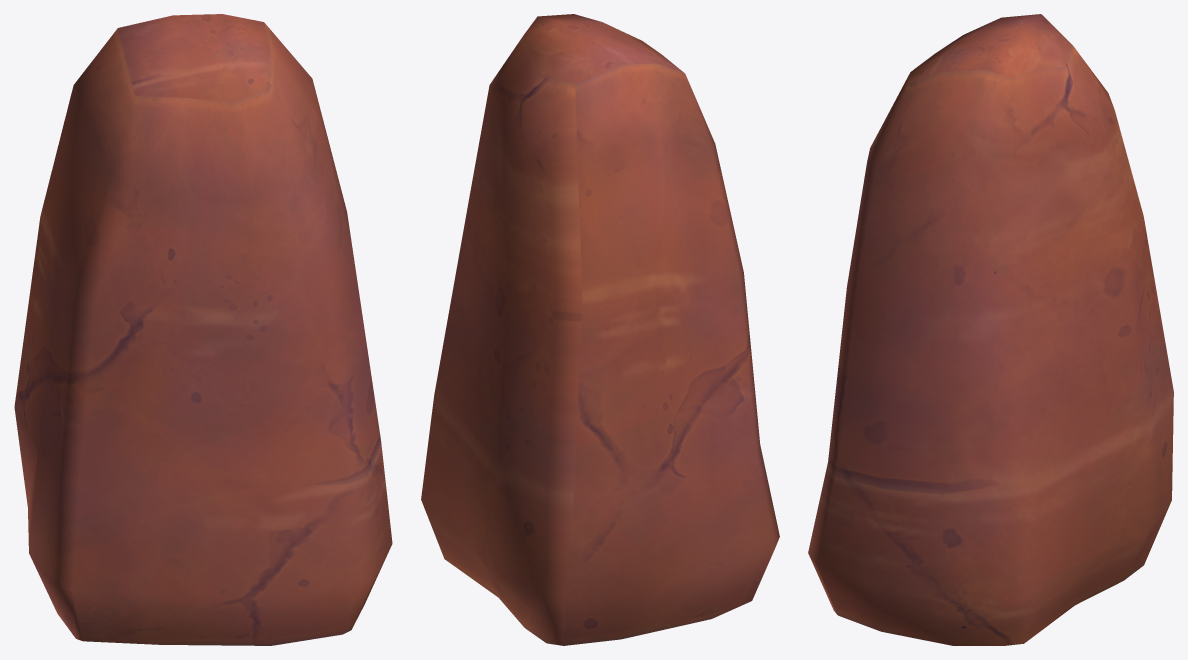
The model's file is SM_Cliff02.fbx.
3 views of the same model, side by side, from view 1: azimuth 30°, elevation 25°; view 2: azimuth 150°, elevation 25°; view 3: azimuth 270°, elevation 25° (orthographic). The views are drawn at different scales.
Parts seen in each view (by area): view 1: SM_Cliff02; view 2: SM_Cliff02; view 3: SM_Cliff02.
Boxes of the visible parts, x1,y1,x2,y2 form: SM_Cliff02: (14, 14, 392, 645); SM_Cliff02: (421, 14, 779, 645); SM_Cliff02: (808, 14, 1173, 645).
Size of the model in its own units: 255 by 417 by 252.
